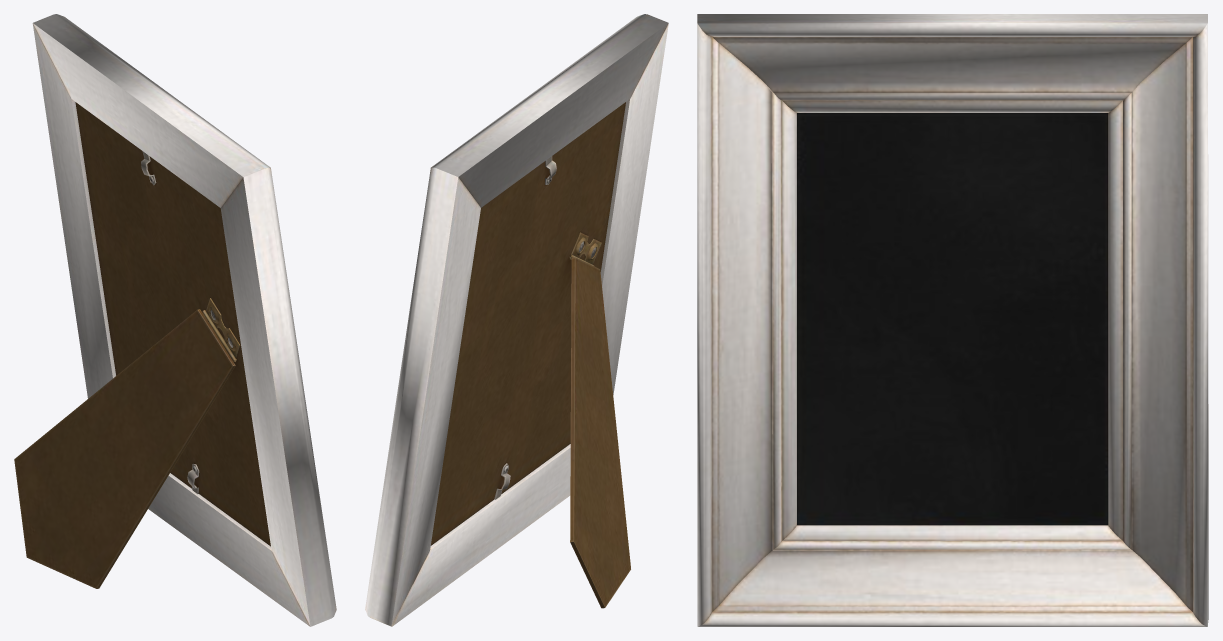
The picture shows the model from 3 angles, left to right: view 1: azimuth 30°, elevation 25°; view 2: azimuth 150°, elevation 25°; view 3: azimuth 270°, elevation 25°; orthographic projection. The views are drawn at different scales.
Parts seen in each view (by area): view 1: standing_picture_frame_02; view 2: standing_picture_frame_02; view 3: standing_picture_frame_02.
Boxes of the visible parts, box(x1,y1,x2,y2) form: standing_picture_frame_02: box(14, 14, 336, 626); standing_picture_frame_02: box(365, 14, 668, 626); standing_picture_frame_02: box(697, 14, 1208, 626).
Bounding box in the file's own units: 0.102 × 0.2661 × 0.2166.
Materials: 3 (3 with a texture image).
